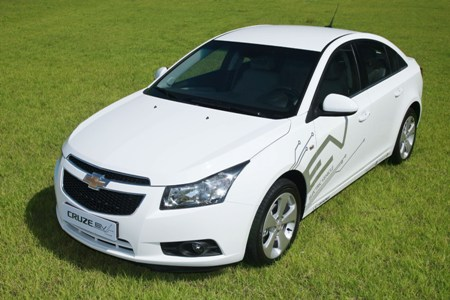sedan: (53, 23, 425, 271)
